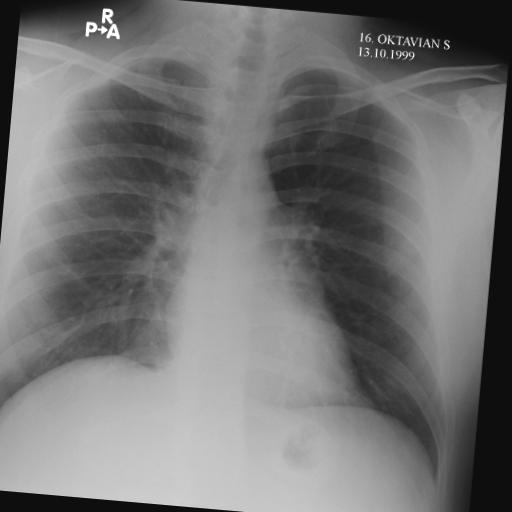normal: (0, 26, 490, 495)
